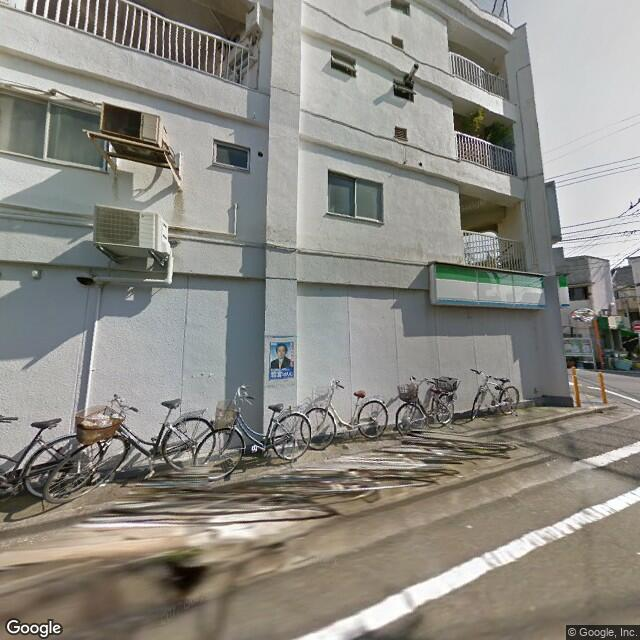family_mart: (432, 259, 547, 311), (556, 269, 574, 313)
